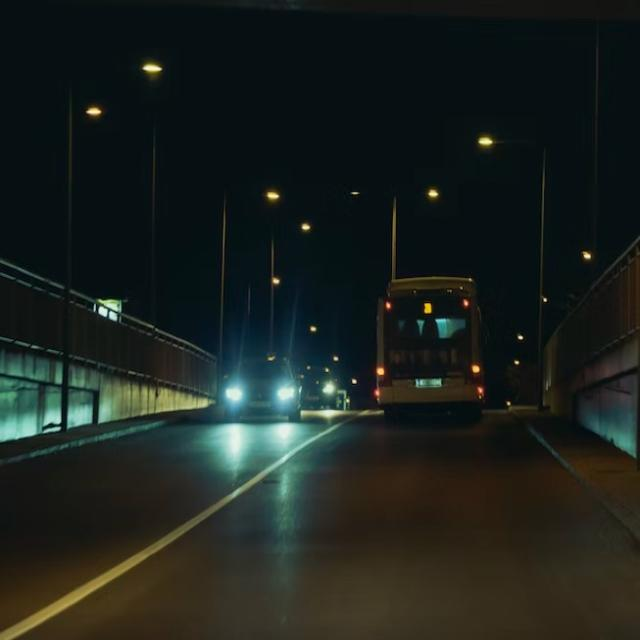bus: (374, 275, 485, 427)
car: (219, 355, 302, 422), (287, 364, 340, 414)
